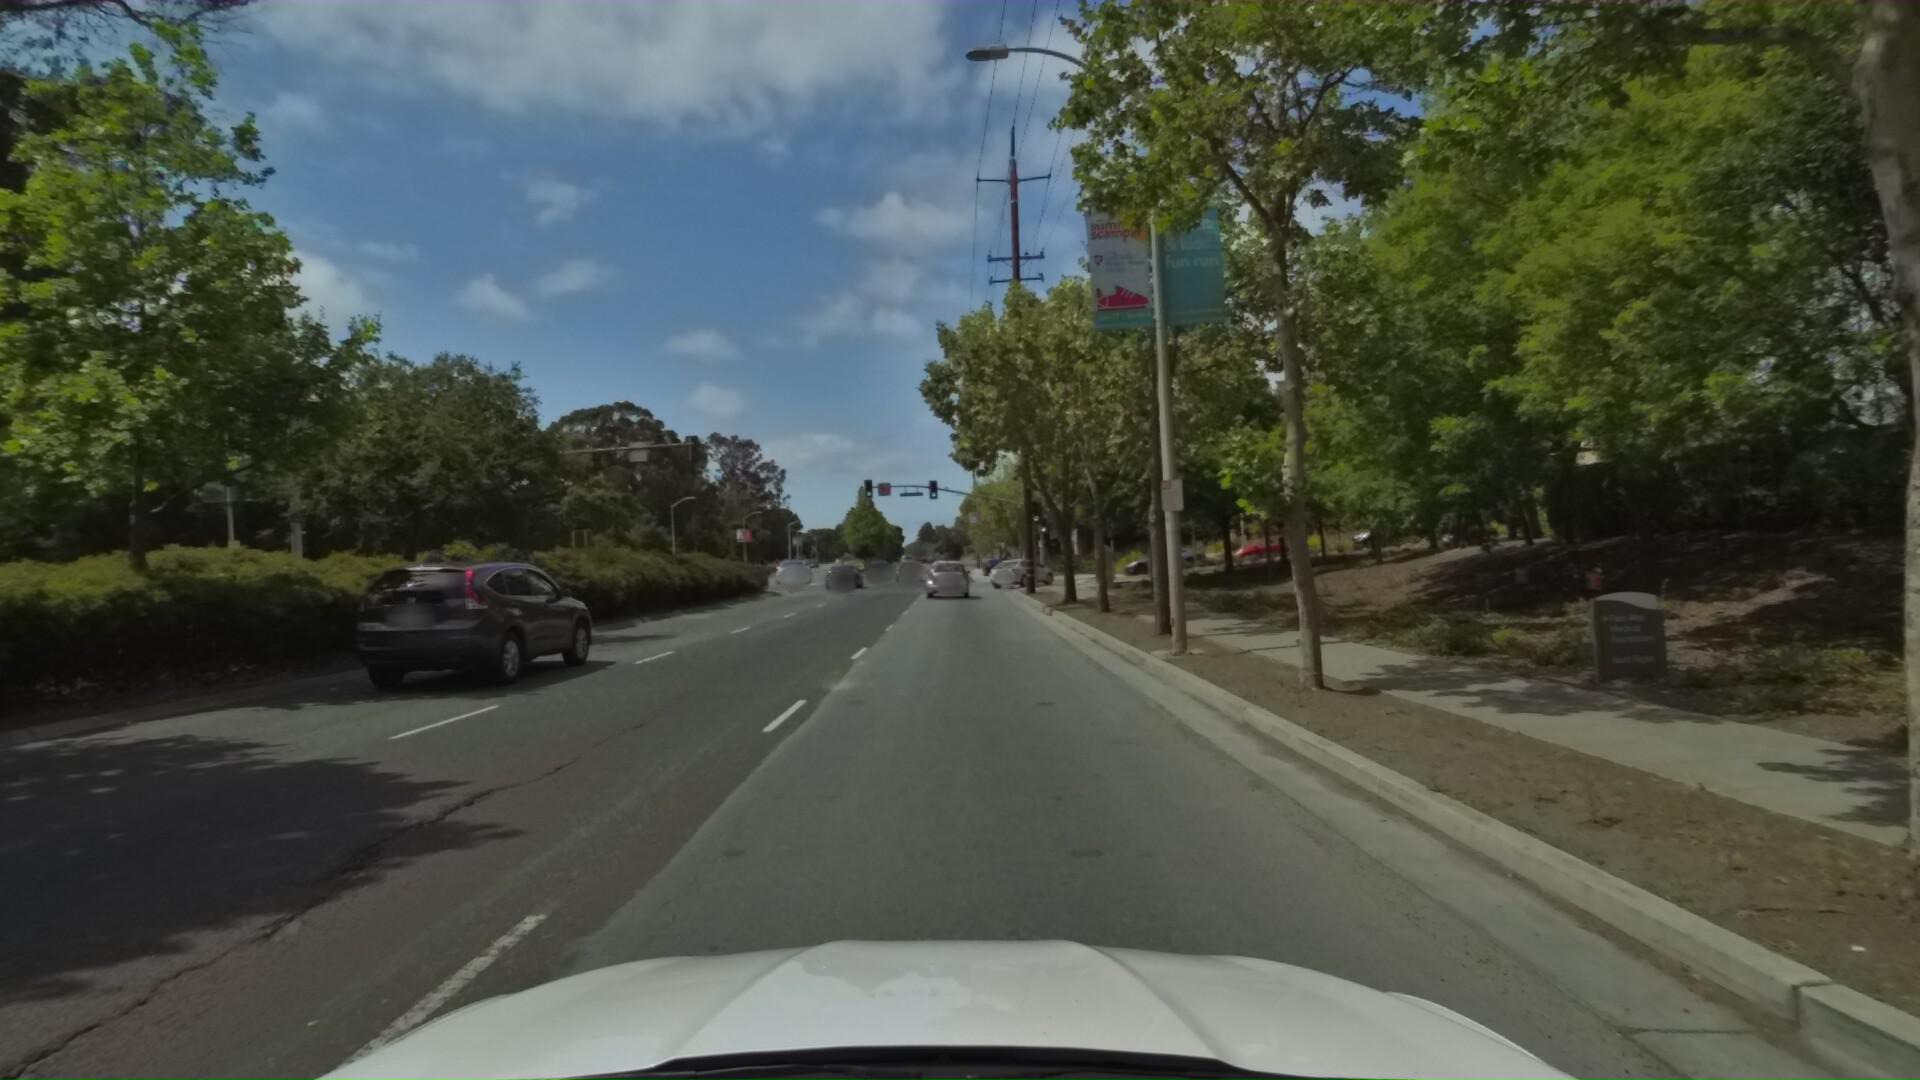car: (338, 563, 616, 707), (1349, 512, 1443, 549), (982, 556, 1059, 593), (919, 555, 972, 608), (1121, 543, 1205, 574), (1228, 531, 1309, 562), (819, 564, 864, 593), (771, 556, 814, 585), (891, 558, 922, 582), (864, 562, 890, 582)
